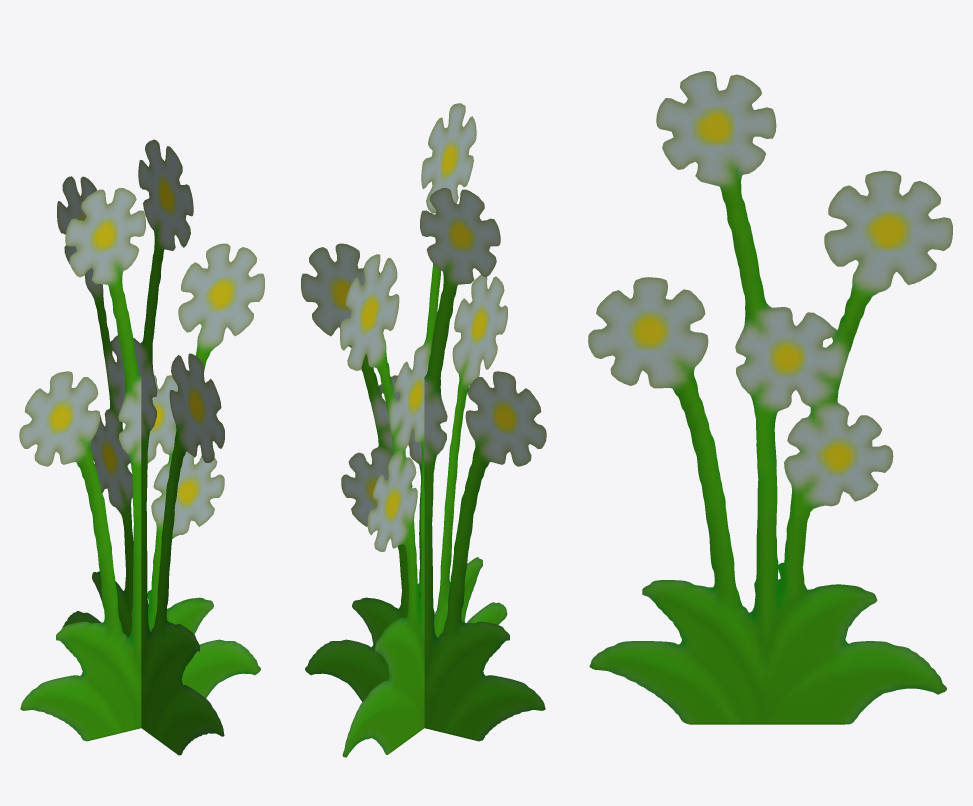
File: Flower05_a01.FBX
3 views of the same model, side by side, from view 1: azimuth 30°, elevation 25°; view 2: azimuth 150°, elevation 25°; view 3: azimuth 270°, elevation 25° (orthographic). The views are drawn at different scales.
Visible parts, largest first — view 1: Flower05_a01; view 2: Flower05_a01; view 3: Flower05_a01.
Part boxes in pixels (x1,y1,x2,y2): Flower05_a01: (19, 139, 264, 755); Flower05_a01: (301, 103, 546, 757); Flower05_a01: (588, 71, 952, 724).
Bounding box in the file's own units: 33.32 × 81.27 × 39.49.
1 material, 1 textured.
